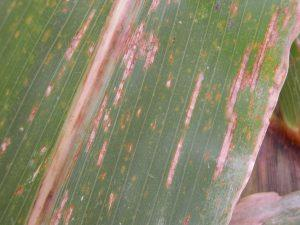Corn Gray leaf spot: (1, 2, 299, 224)
